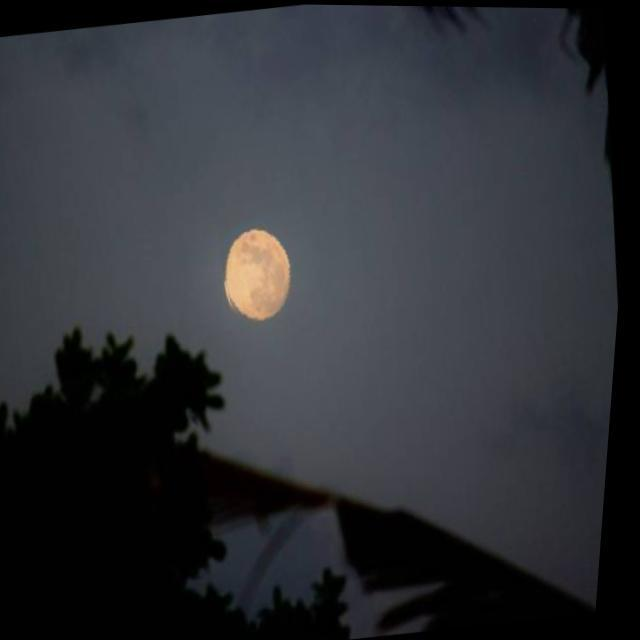moon: (214, 196, 316, 330)
